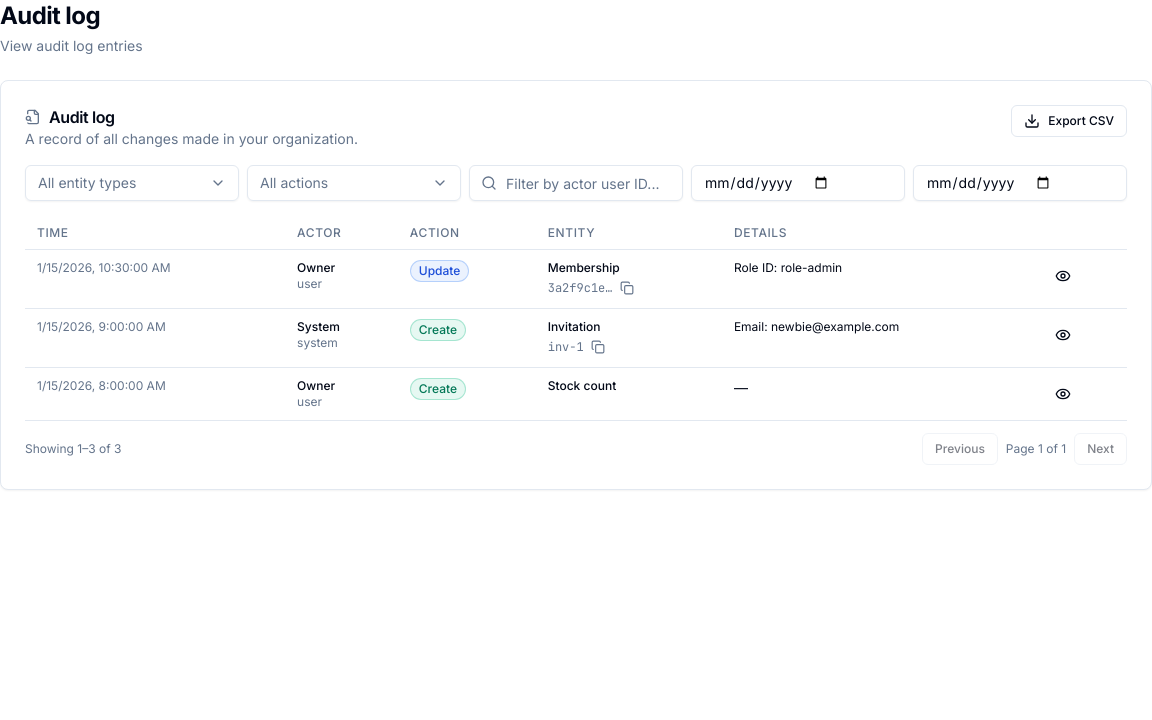
Test: AuditLogSettingsPage — detail dialog › closes the detail dialog with the close button
The image size is (1152, 720).
Expected: the table is shown, [25,217,1127,420]
Click the button named "View details" in the row of "1/15/2026, 10:30:00 AM" at (1062, 276), box [1046,260,1078,292]
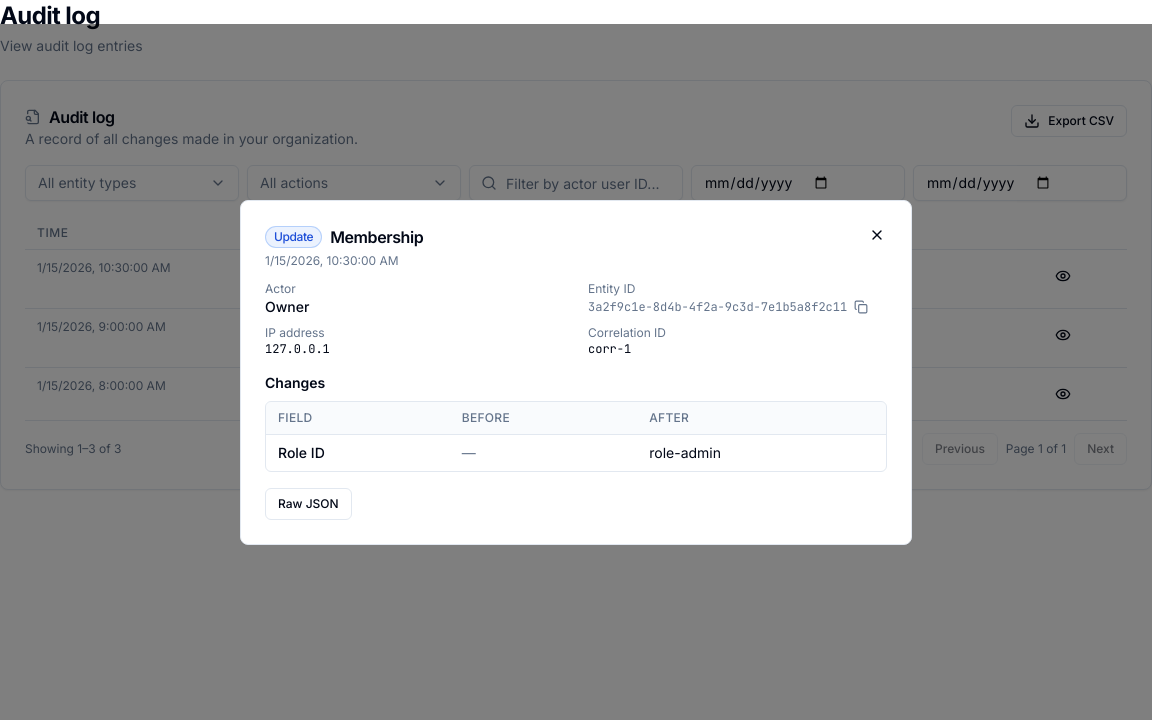
Click the button named "Close" at (877, 234), box [863,220,891,248]
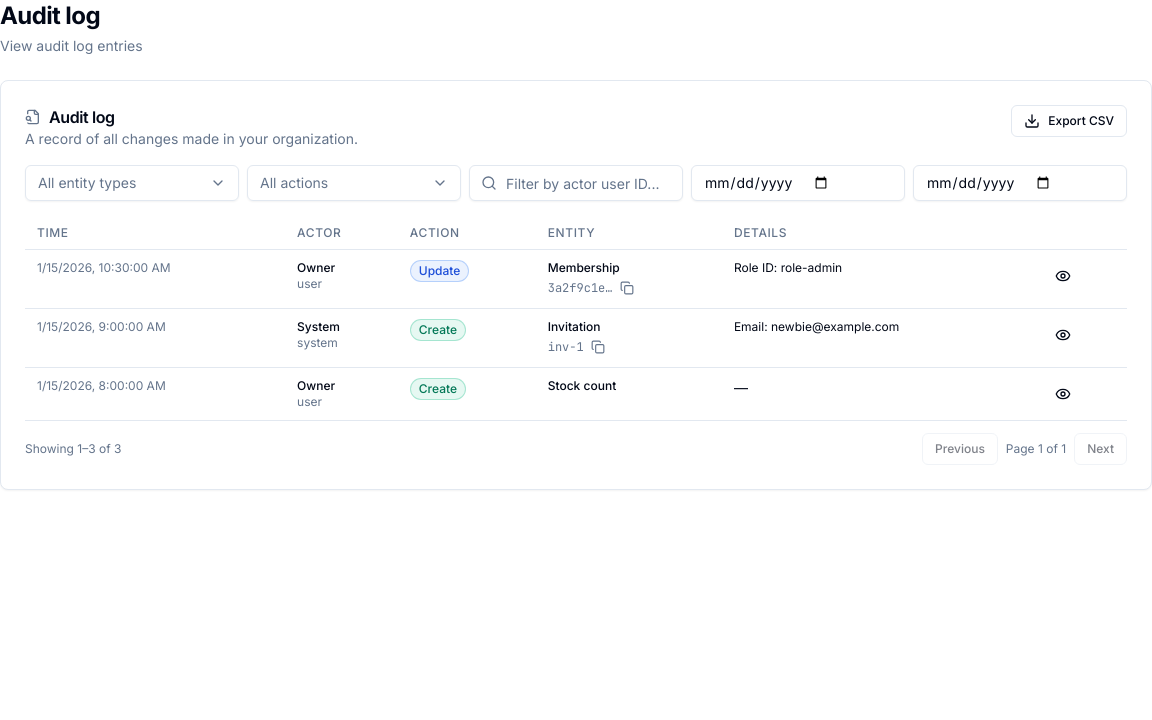
Expected: the dialog is gone
